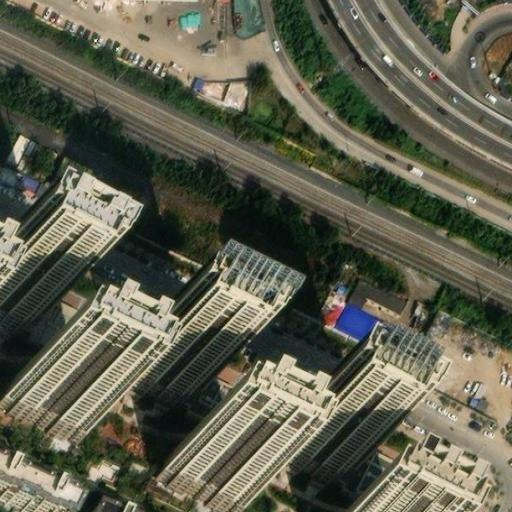building: (119, 322, 214, 392), (327, 275, 408, 354), (154, 444, 247, 512), (0, 367, 89, 437), (266, 409, 352, 478), (84, 496, 122, 512)
